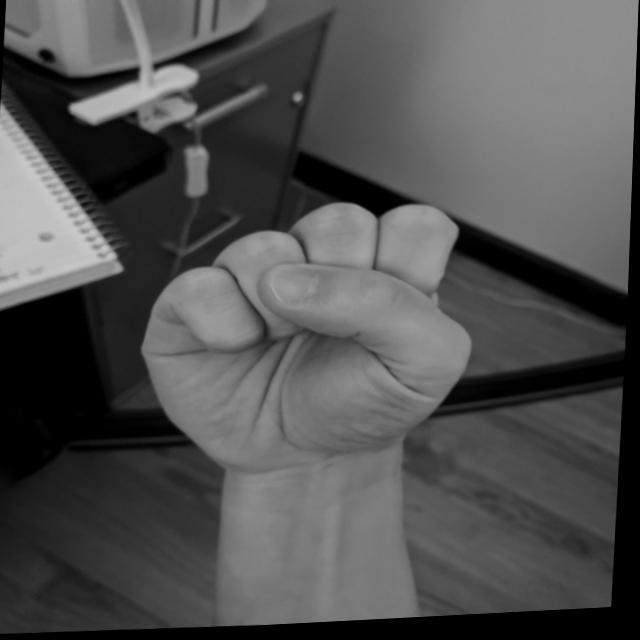S: (128, 189, 493, 490)
